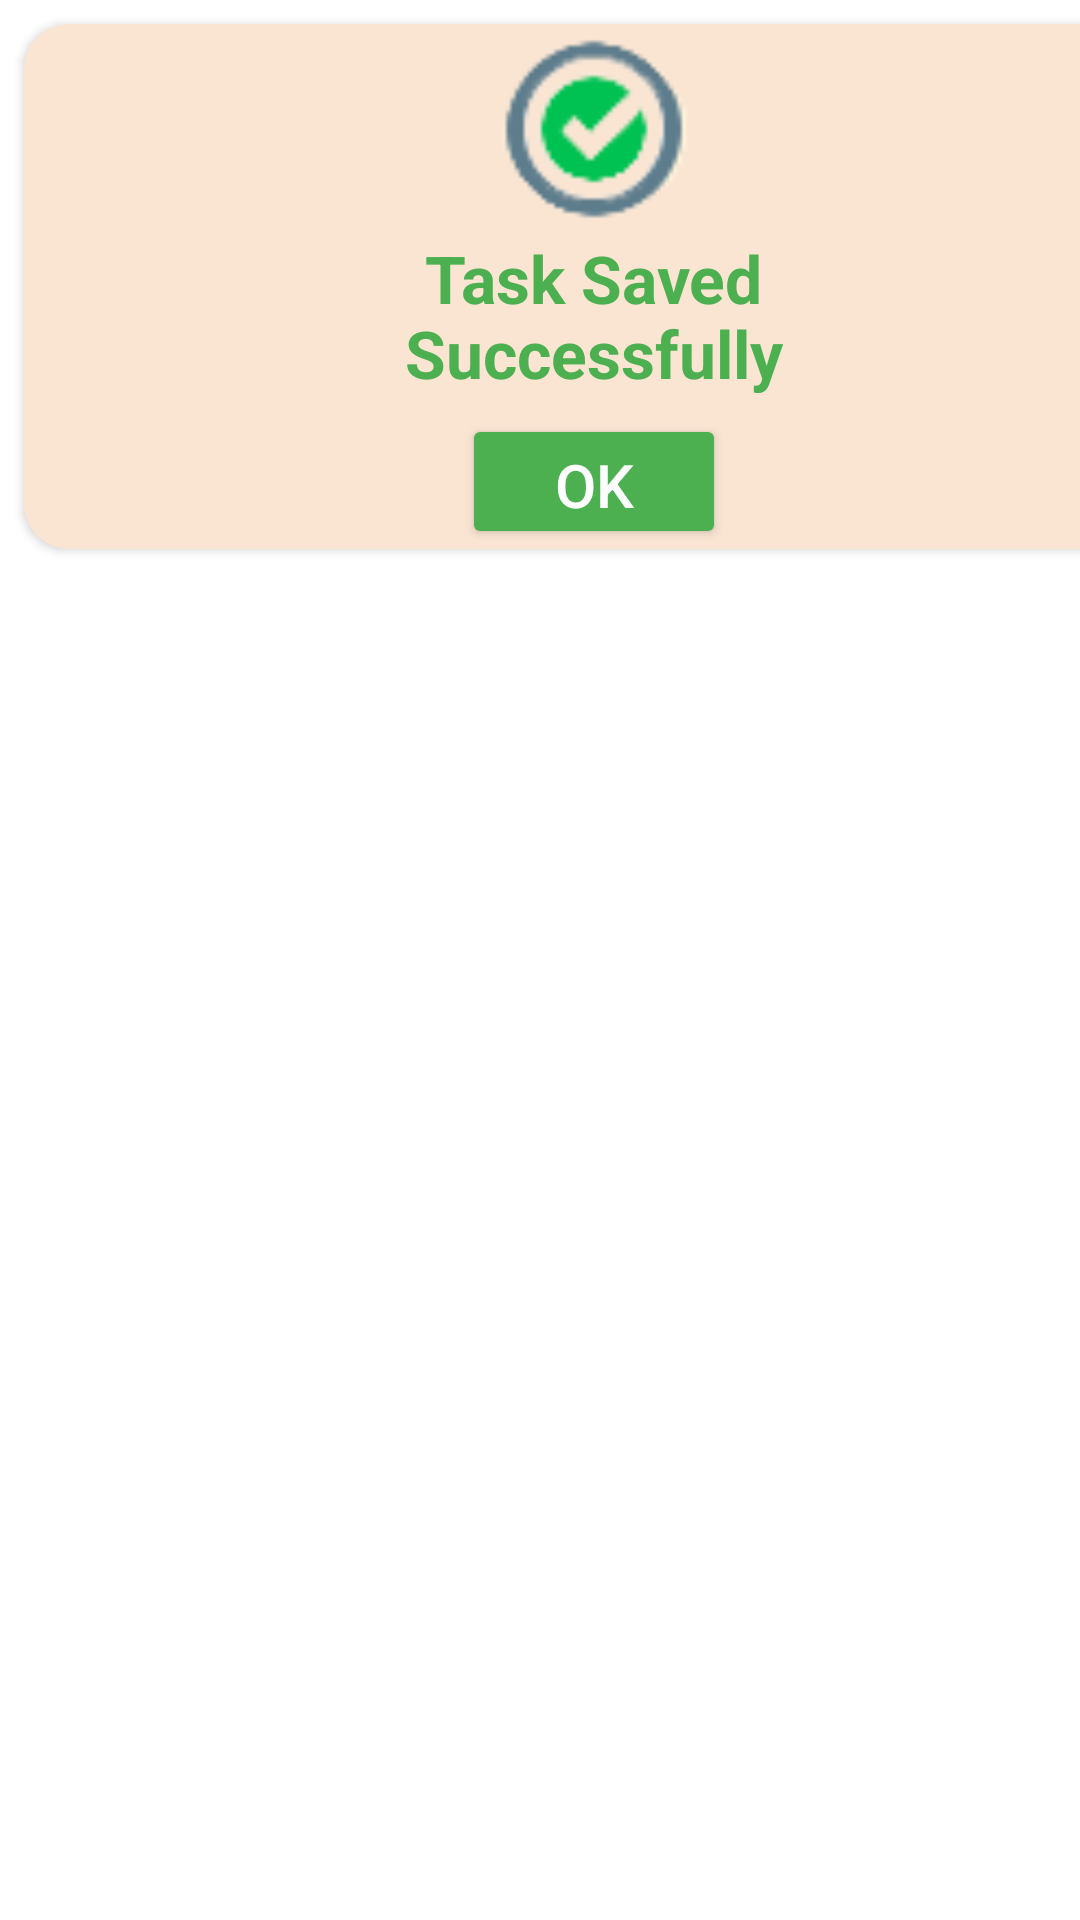

Point at icon controls on the screen. Image size 1080px×1920px, points as (x=x, y=y).
done: (x=594, y=129)
